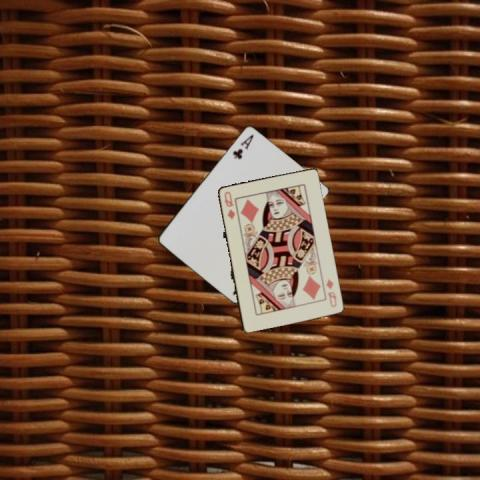Ac: (230, 131, 256, 160)
Qd: (323, 276, 338, 309), (222, 188, 236, 221)
